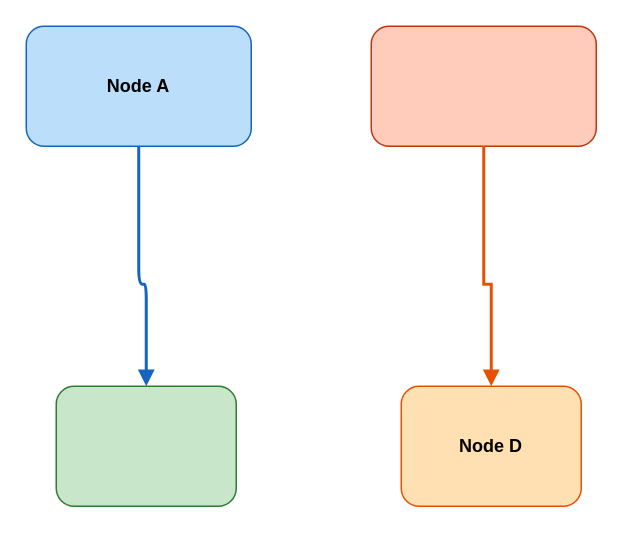
Some shapes in this 623 by 533 pixel diagram are drawn without their labels. The centre of each missing label's shape, as x and y in pixels:
Node B (Overlaps A): point 483,85
Node C: point 145,445
